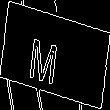M_N: (38, 26, 72, 84)
